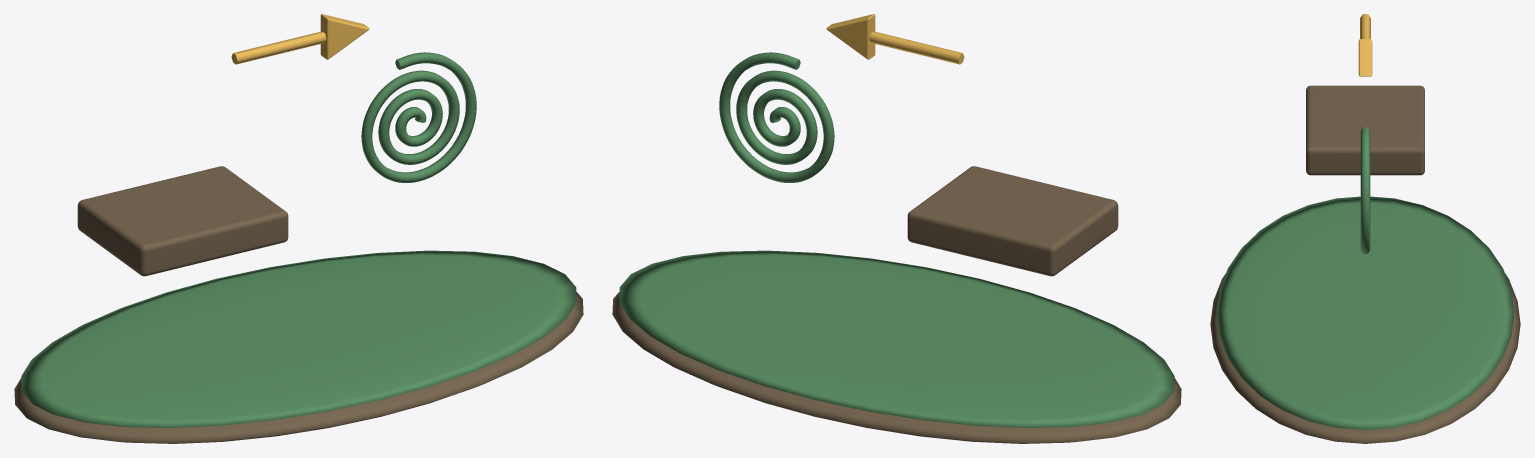
File: complete-first-go-away-cocoon.glb
3 renders of one model, left to right at view 1: azimuth 30°, elevation 25°; view 2: azimuth 150°, elevation 25°; view 3: azimuth 270°, elevation 25°, orthographic. The views are drawn at different scales.
Visible parts, largest first — view 1: complete-first-go-away-cocoon_surface_01, complete-first-go-away-cocoon_surface_00, complete-first-go-away-cocoon_surface_02; view 2: complete-first-go-away-cocoon_surface_01, complete-first-go-away-cocoon_surface_00, complete-first-go-away-cocoon_surface_02; view 3: complete-first-go-away-cocoon_surface_01, complete-first-go-away-cocoon_surface_00, complete-first-go-away-cocoon_surface_02.
Part boxes in pixels (x1,y1,x2,y2): complete-first-go-away-cocoon_surface_01: (21,52,576,427); complete-first-go-away-cocoon_surface_00: (14,166,583,443); complete-first-go-away-cocoon_surface_02: (231,14,369,64); complete-first-go-away-cocoon_surface_01: (619,52,1174,427); complete-first-go-away-cocoon_surface_00: (612,166,1181,443); complete-first-go-away-cocoon_surface_02: (826,14,964,64); complete-first-go-away-cocoon_surface_01: (1216,127,1514,429); complete-first-go-away-cocoon_surface_00: (1210,85,1520,443); complete-first-go-away-cocoon_surface_02: (1358,14,1372,76).
Bounding box in the file's own units: 4.56 × 2.77 × 2.5.
